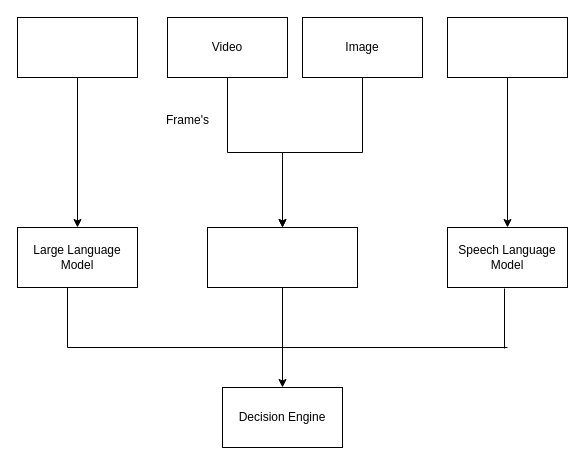
The diagram is 585 pixels wide and 465 high, and some of its shapes have lost their labels. Here are the shapes that lost their labels. From the top down, the centre of each, then its label:
At point (77, 47): "Text Prompts/Rules".
At point (507, 47): "Audio".
At point (282, 257): "Vision Language Model".
